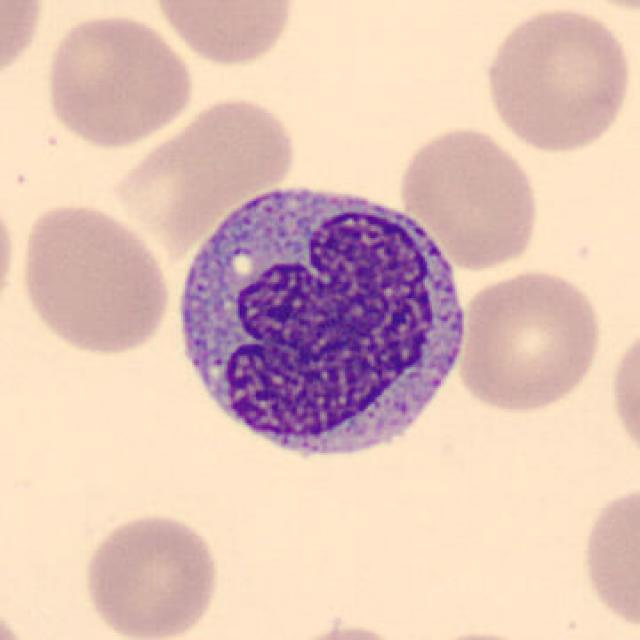Monocyte: (162, 166, 480, 481)
RBC: (107, 92, 300, 248), (14, 197, 176, 358), (480, 6, 636, 161), (454, 266, 604, 416), (395, 121, 544, 272), (41, 9, 197, 150), (78, 508, 224, 640), (147, 0, 300, 69), (576, 480, 640, 634), (606, 317, 640, 471), (0, 0, 50, 92), (272, 619, 414, 640), (0, 189, 20, 326), (411, 626, 556, 640)
